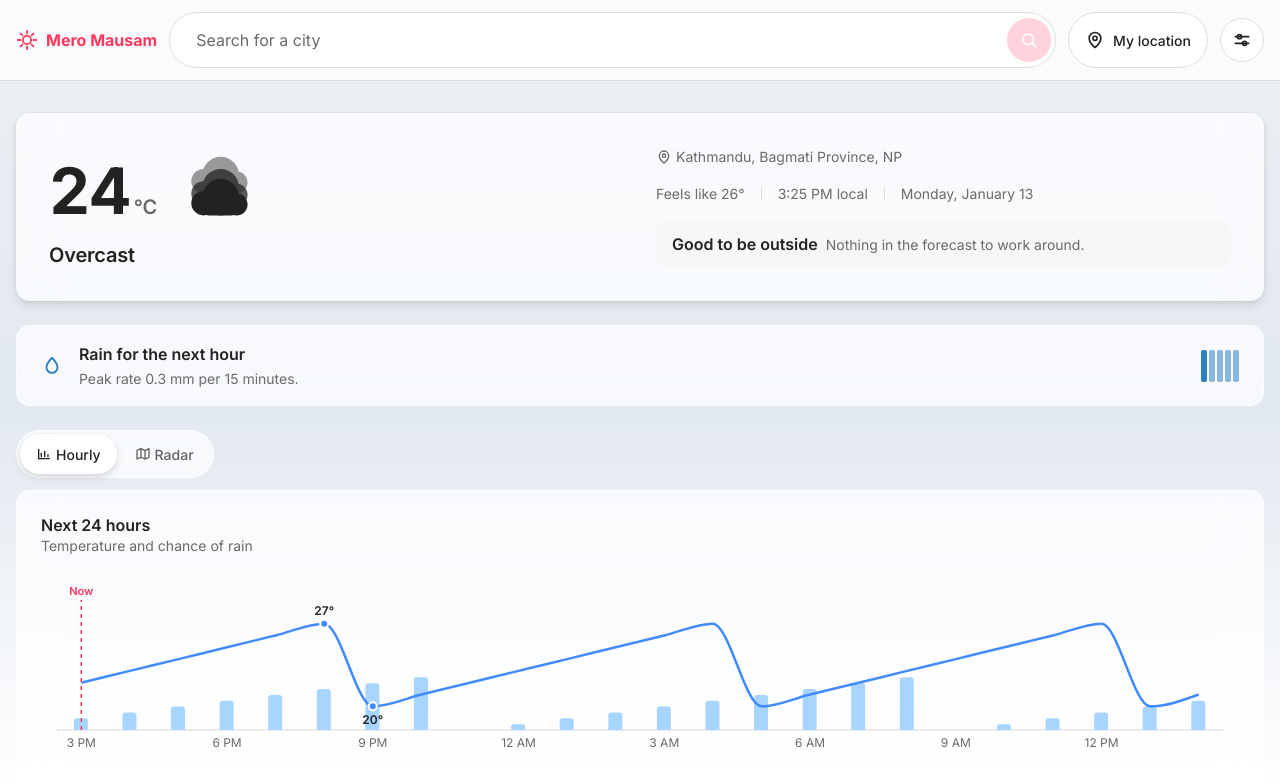
preferences › switches the whole app to imperial
Check: the text "24" is shown, box [49,156,130,226]
What coordinates should you click on to do the following:
click the button named "Settings"
I would click on:
 (1242, 40)
Its box is [1220,18,1264,62].
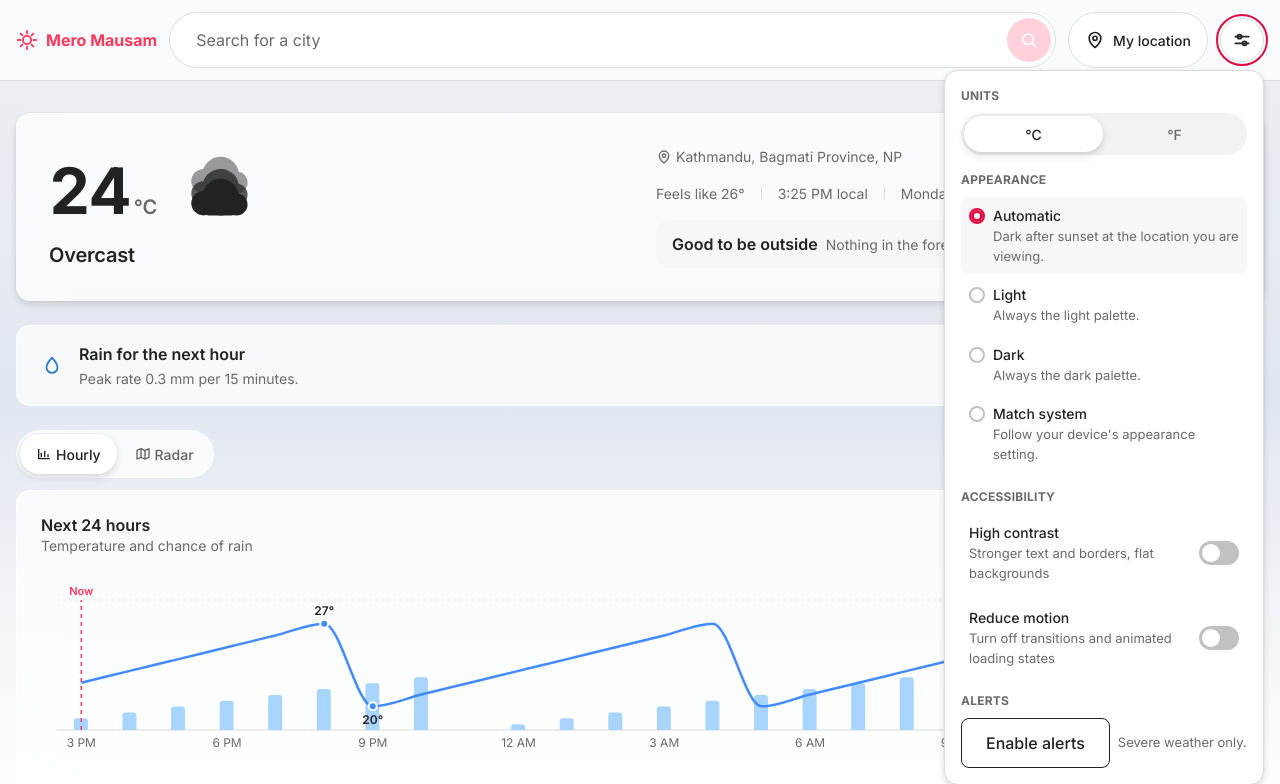
What coordinates should you click on to do the following:
click the radio button labelled "°F"
I would click on:
 (1174, 134)
Its box is [1105,116,1244,152].
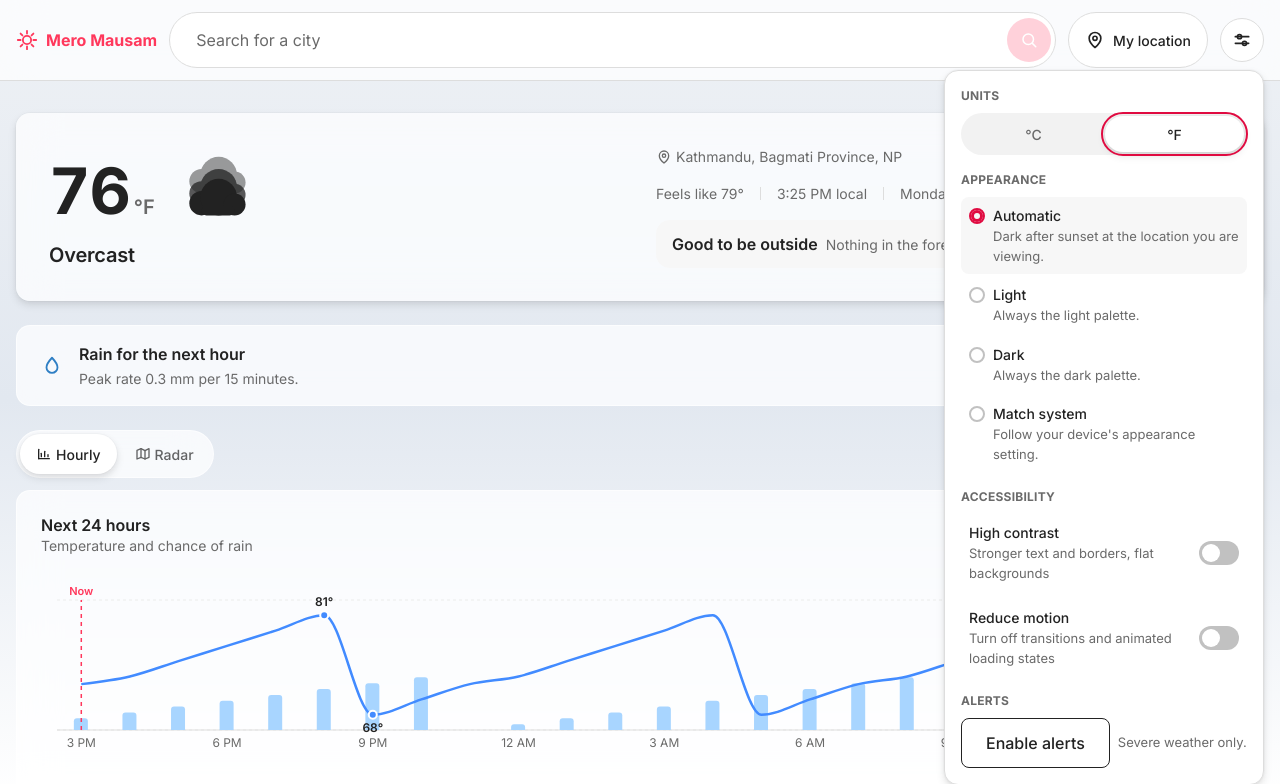
Check: the text "76" is shown, box [49,156,130,226]
